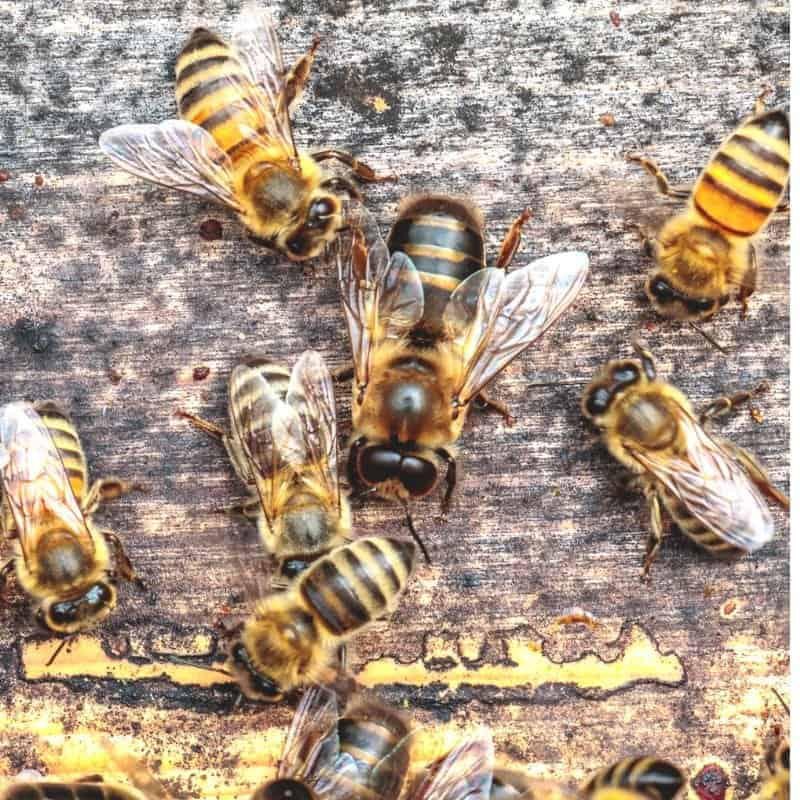bee: (177, 30, 338, 251), (594, 365, 760, 551), (649, 108, 789, 316), (233, 540, 414, 693), (10, 404, 115, 630), (230, 357, 332, 574), (582, 754, 689, 800)
drone: (359, 197, 486, 496), (300, 704, 413, 800)
